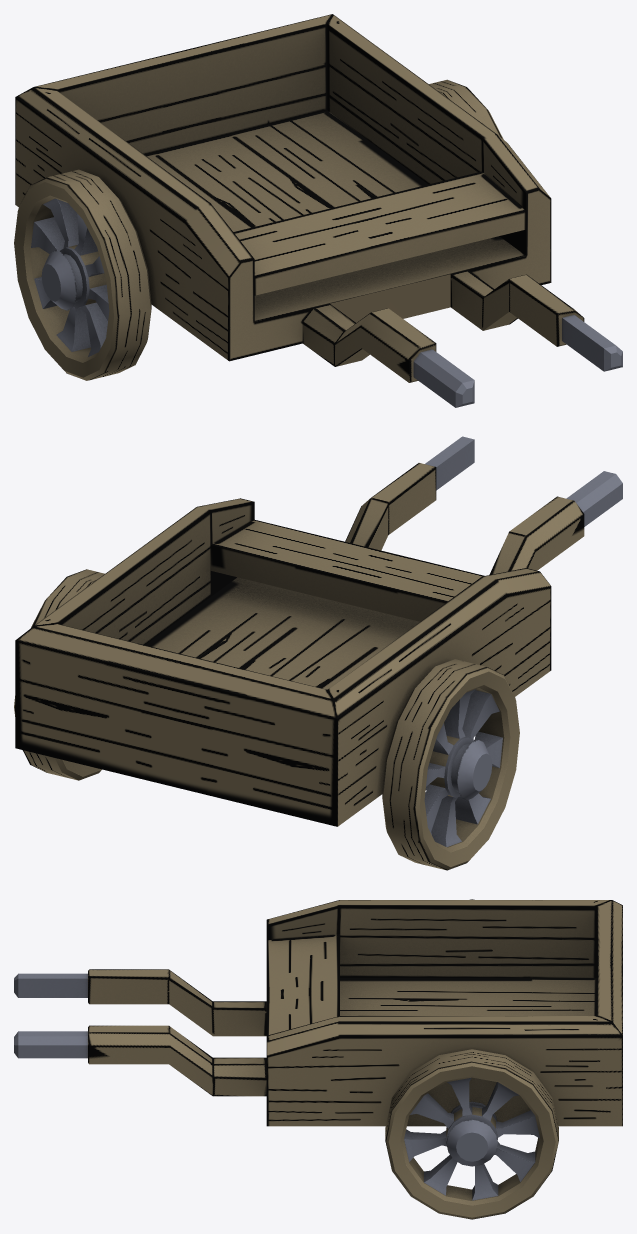
The model's file is Carrige.fbx.
3 views of the same model, one above another, from view 1: azimuth 30°, elevation 25°; view 2: azimuth 150°, elevation 25°; view 3: azimuth 270°, elevation 25° (orthographic). The views are drawn at different scales.
Parts seen in each view (by area): view 1: Cube, Cube.001; view 2: Cube, Cube.001; view 3: Cube, Cube.001.
Part boxes in pixels (x1=…): Cube: x1=15, y1=14, x2=622, y2=407; Cube.001: x1=14, y1=79, x2=503, y2=380; Cube: x1=15, y1=436, x2=622, y2=826; Cube.001: x1=14, y1=569, x2=519, y2=870; Cube: x1=14, y1=900, x2=622, y2=1126; Cube.001: x1=385, y1=899, x2=558, y2=1219.
Bounding box in the file's own units: 283 × 134 × 416.
